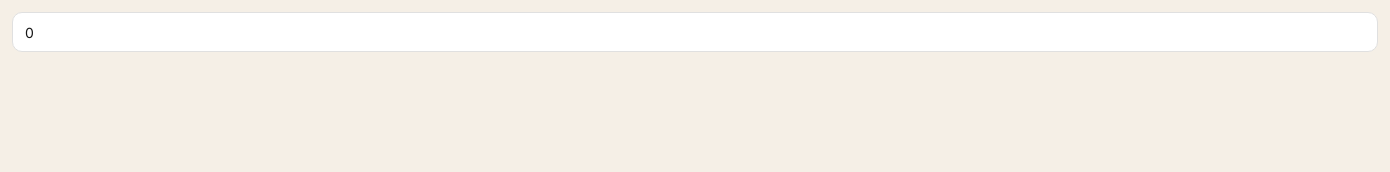
Test: NumberInput zero handling › typing after the 0 gives 9, not 09
Replace the text in the field named "qty" with "09" at (695, 32), box [12, 12, 1378, 52]
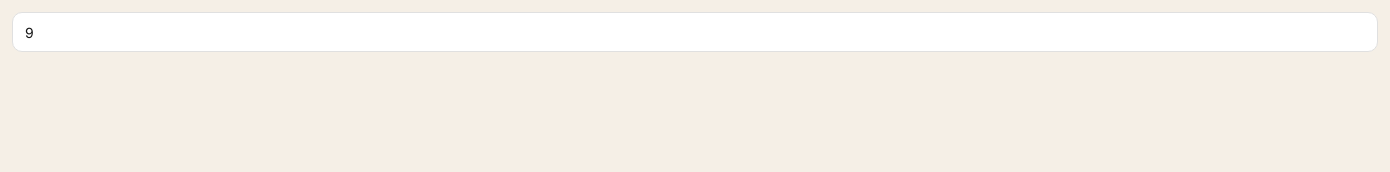
Now the field named "qty" holds "9", box [12, 12, 1378, 52]
